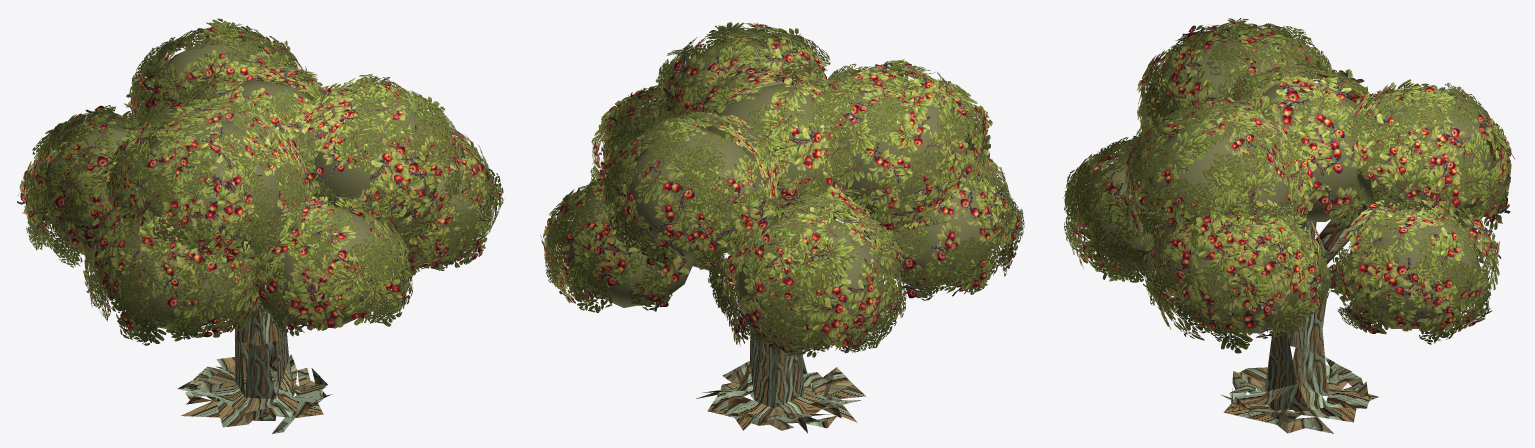
File: tree_apple_1.glb
3 renders of one model, left to right at view 1: azimuth 30°, elevation 25°; view 2: azimuth 150°, elevation 25°; view 3: azimuth 270°, elevation 25°, orthographic.
Parts seen in each view (by area): view 1: Leaves, CrownCore, Trunk; view 2: Leaves, CrownCore, Trunk; view 3: Leaves, CrownCore, Trunk.
Part boxes in pixels (box(x1,y1,x2,y2)): Leaves: box(17, 18, 504, 345); CrownCore: box(44, 40, 476, 331); Trunk: box(177, 252, 332, 433); Leaves: box(540, 22, 1024, 357); CrownCore: box(564, 40, 998, 349); Trunk: box(693, 210, 865, 433); Leaves: box(1063, 18, 1514, 353); CrownCore: box(1084, 42, 1493, 333); Trunk: box(1221, 203, 1378, 433).
Size of the model in its own units: 4.83 by 3.98 by 4.71.
3 materials, 2 textured.
